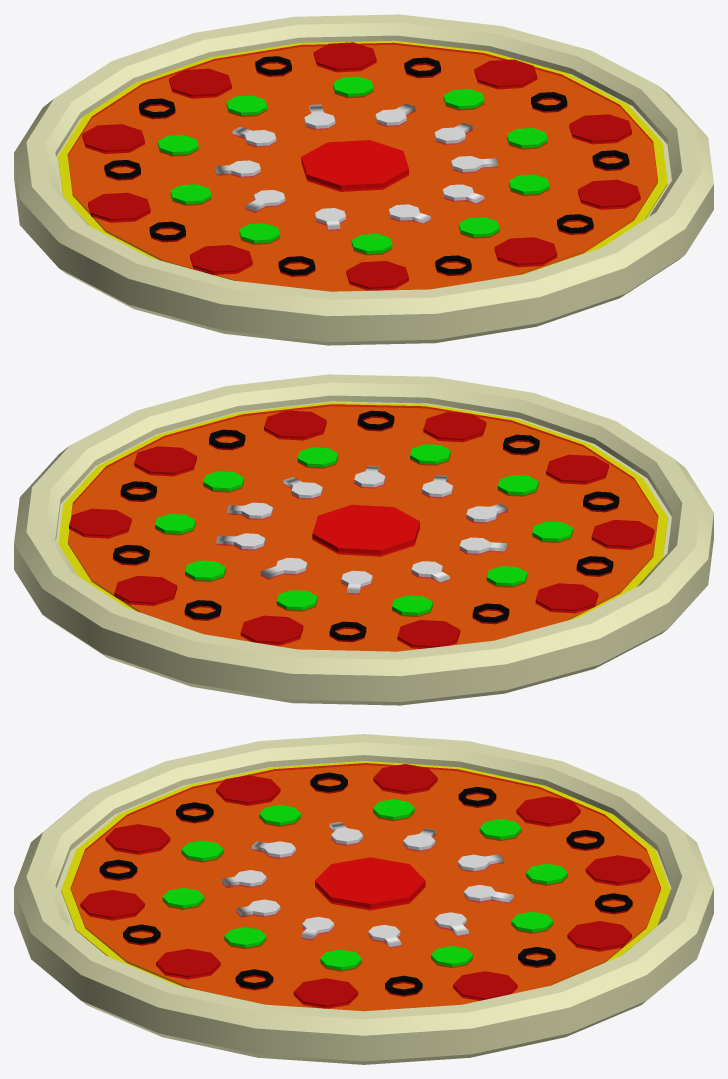
File: Pizza.fbx
The picture shows the model from 3 angles, top to bottom: view 1: azimuth 30°, elevation 25°; view 2: azimuth 150°, elevation 25°; view 3: azimuth 270°, elevation 25°; orthographic projection.
Parts seen in each view (by area): view 1: pCylinder38, pCylinder8, pCylinder3, pCylinder50, pCylinder9, pCylinder13, pCylinder16, pCylinder17, pCylinder15, pCylinder12, pCylinder14, pCylinder4 (+32 smaller); view 2: pCylinder38, pCylinder8, pCylinder3, pCylinder50, pCylinder14, pCylinder15, pCylinder12, pCylinder9, pCylinder13, pCylinder16, pCylinder4, pCylinder11 (+32 smaller); view 3: pCylinder38, pCylinder8, pCylinder3, pCylinder50, pCylinder9, pCylinder4, pCylinder10, pCylinder14, pCylinder15, pCylinder13, pCylinder16, pCylinder17 (+32 smaller).
Boxes of the visible parts, left/top/right/bottom form: pCylinder38: left=67, top=42, right=657, bottom=291; pCylinder8: left=58, top=40, right=667, bottom=291; pCylinder3: left=14, top=14, right=713, bottom=345; pCylinder50: left=301, top=140, right=408, bottom=191; pCylinder9: left=88, top=192, right=150, bottom=222; pCylinder13: left=578, top=179, right=640, bottom=209; pCylinder16: left=313, top=42, right=376, bottom=71; pCylinder17: left=169, top=68, right=231, bottom=98; pCylinder15: left=494, top=237, right=557, bottom=266; pCylinder12: left=569, top=114, right=631, bottom=143; pCylinder14: left=346, top=261, right=408, bottom=290; pCylinder4: left=190, top=245, right=252, bottom=274; pCylinder38: left=68, top=404, right=658, bottom=651; pCylinder8: left=58, top=402, right=667, bottom=651; pCylinder3: left=14, top=374, right=713, bottom=705; pCylinder50: left=312, top=504, right=419, bottom=556; pCylinder14: left=546, top=454, right=608, bottom=484; pCylinder15: left=423, top=412, right=486, bottom=441; pCylinder12: left=134, top=446, right=196, bottom=475; pCylinder9: left=535, top=583, right=598, bottom=612; pCylinder13: left=264, top=410, right=326, bottom=440; pCylinder16: left=114, top=576, right=177, bottom=605; pCylinder4: left=591, top=519, right=654, bottom=549; pCylinder11: left=69, top=508, right=131, bottom=538; pCylinder38: left=70, top=763, right=660, bottom=1011; pCylinder8: left=61, top=761, right=670, bottom=1010; pCylinder3: left=14, top=734, right=713, bottom=1064; pCylinder50: left=315, top=857, right=425, bottom=910; pCylinder9: left=373, top=764, right=437, bottom=794; pCylinder4: left=216, top=775, right=280, bottom=805; pCylinder10: left=516, top=796, right=580, bottom=826; pCylinder14: left=105, top=824, right=170, bottom=854; pCylinder15: left=80, top=890, right=144, bottom=920; pCylinder13: left=156, top=948, right=220, bottom=979; pCylinder16: left=567, top=921, right=631, bottom=951; pCylinder17: left=585, top=855, right=650, bottom=885.
Bounding box in the file's own units: 6.07 × 0.4146 × 6.07.
